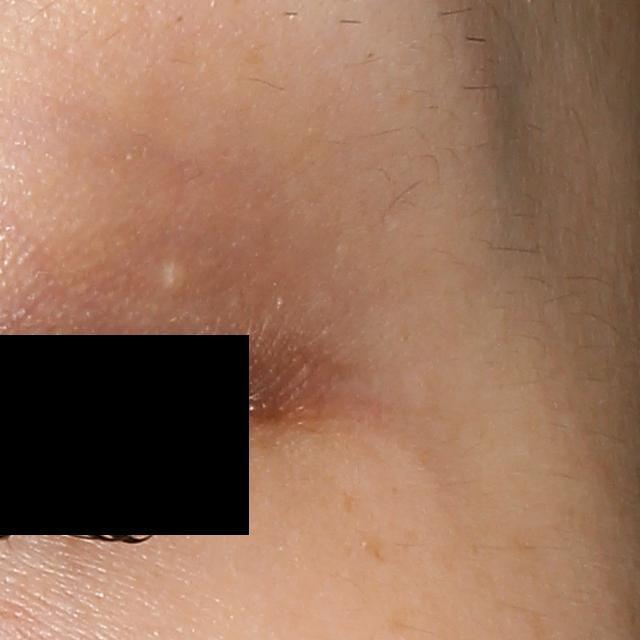comedo: (160, 261, 183, 295)
melasma: (328, 523, 404, 578)
